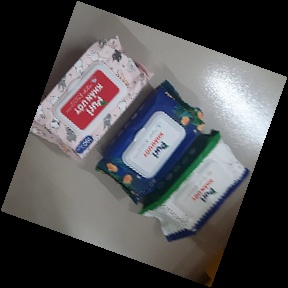Puri Trang: (136, 128, 254, 243)
Puri Xanh: (90, 78, 204, 203)
Puri hong: (26, 34, 155, 163)
